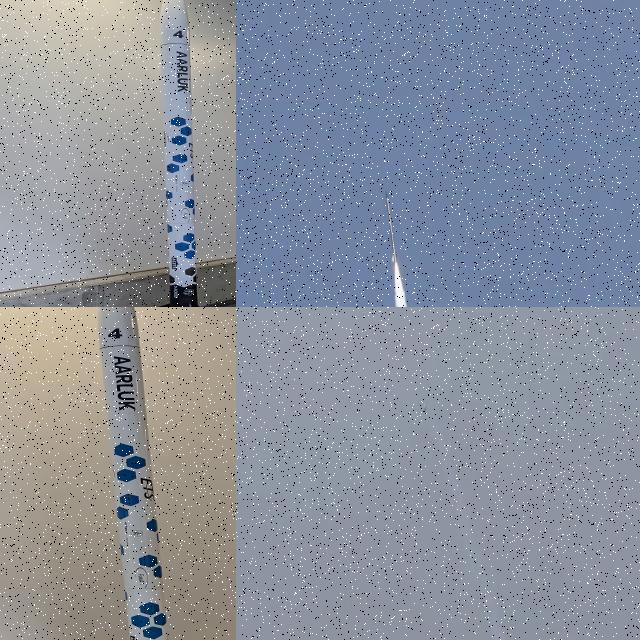Rocket: (98, 307, 169, 640), (157, 0, 200, 307), (385, 190, 399, 263), (424, 404, 426, 413)
